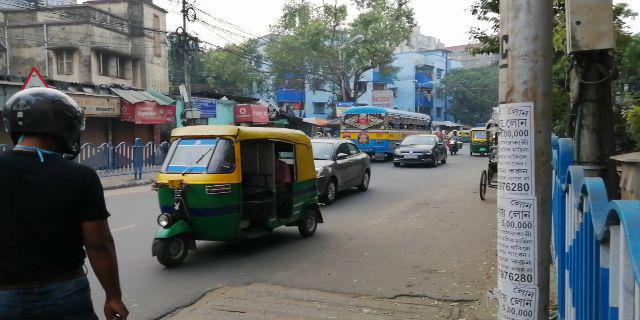Autorickshaw: (149, 125, 323, 262)
Bus: (345, 111, 434, 156)
Car: (308, 139, 375, 201), (395, 132, 449, 164)
